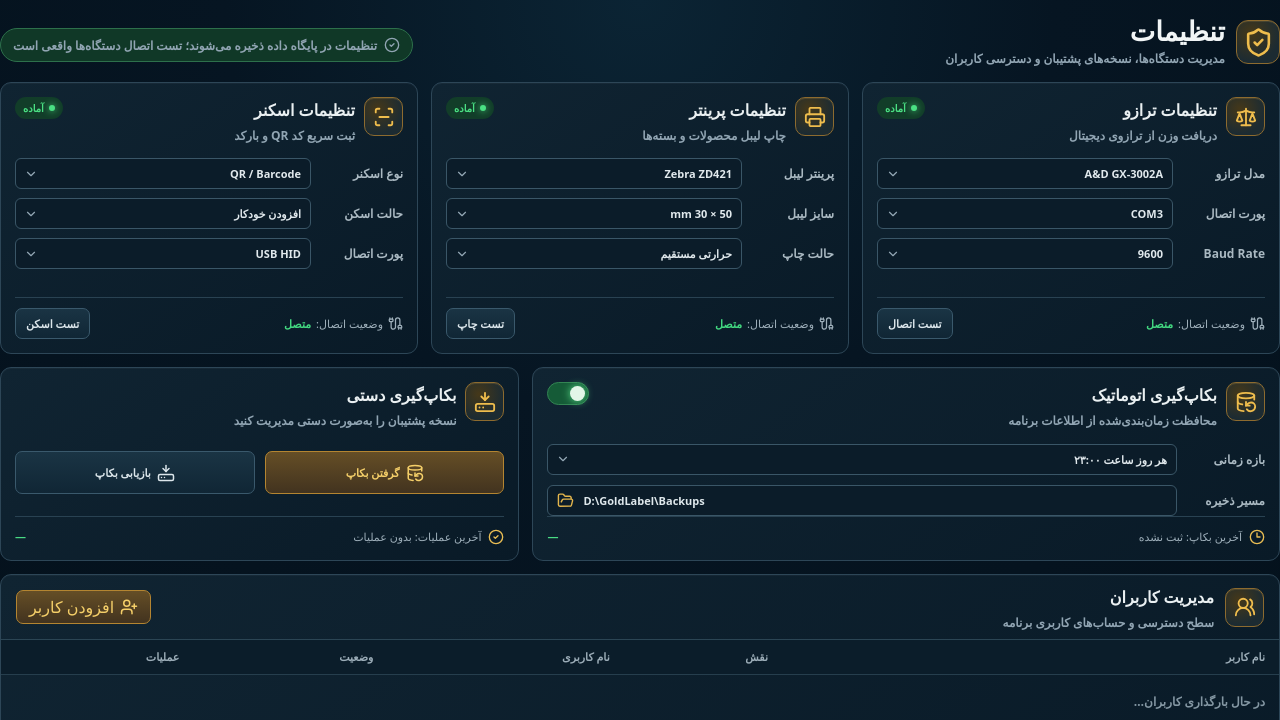
Test: settings hardware actions › explains that no backup file exists instead of restoring nothing
The image size is (1280, 720).
Click the button "بازیابی بکاپ" at (135, 472), box [15, 451, 255, 494]
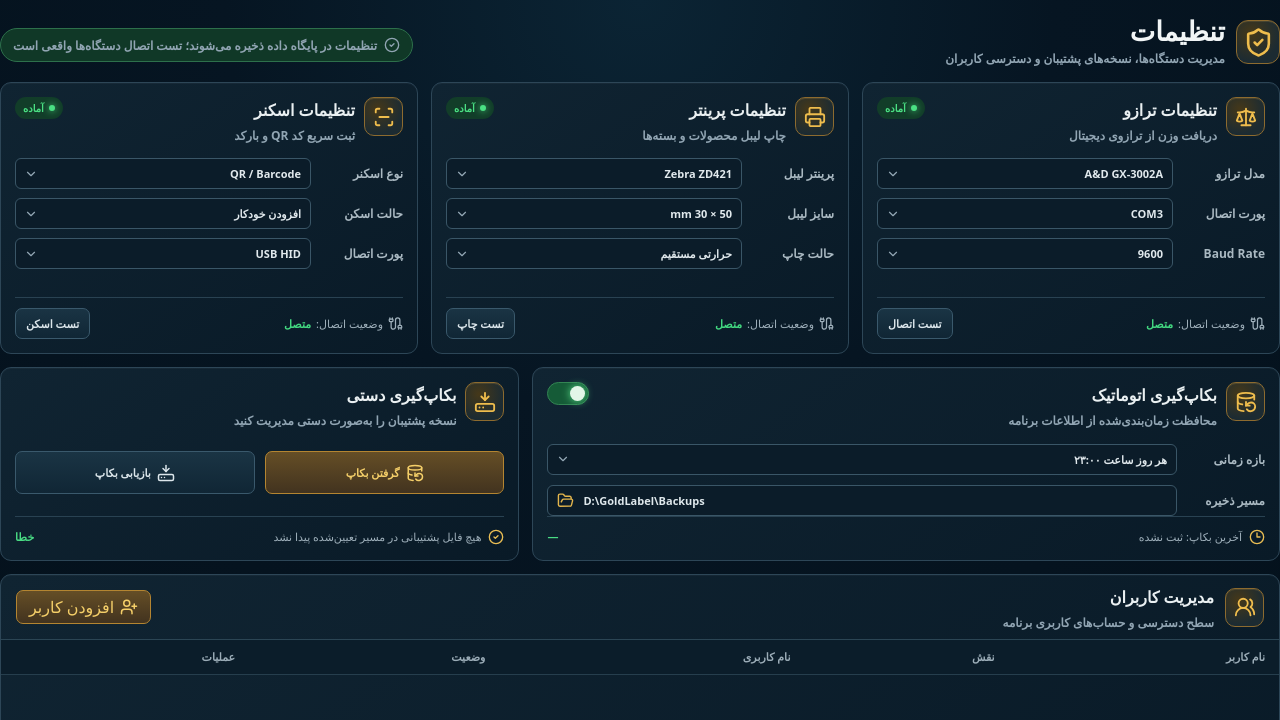
Expected: the text "هیچ فایل پشتیبانی در مسیر تعیین‌شده پیدا نشد" is shown, [274, 529, 482, 544]
